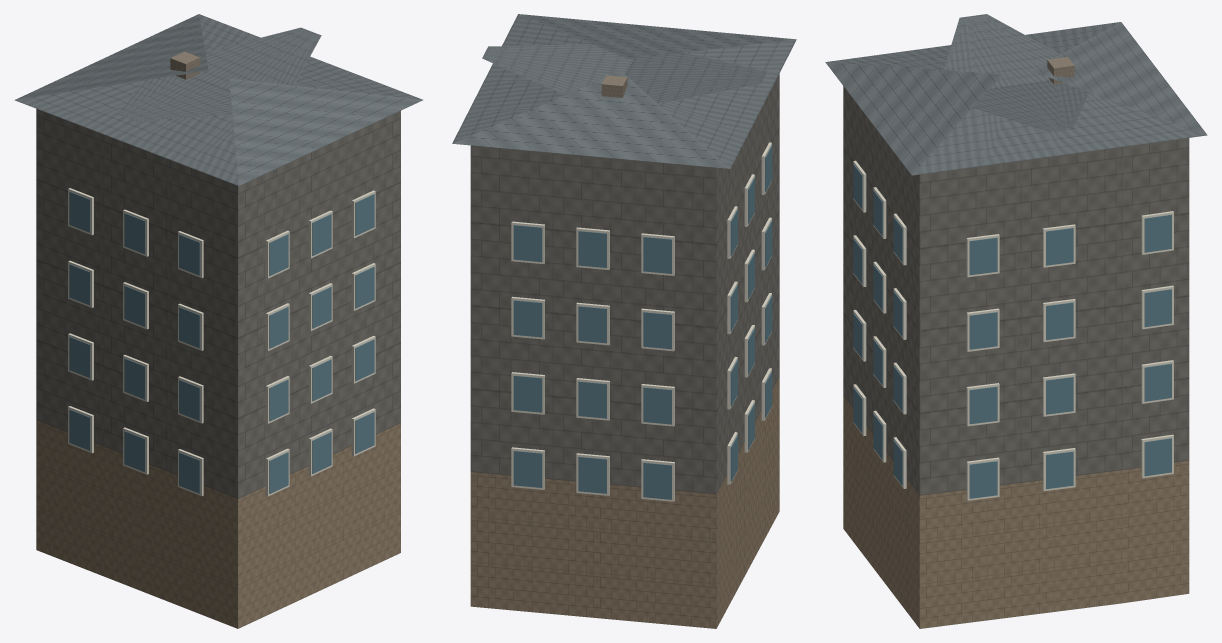
The model's file is core_0120.gltf.
3 renders of one model, left to right at view 1: azimuth 30°, elevation 25°; view 2: azimuth 150°, elevation 25°; view 3: azimuth 270°, elevation 25°, orthographic. The views are drawn at different scales.
Visible parts, largest first — view 1: core_0120; view 2: core_0120; view 3: core_0120.
Part boxes in pixels (box(x1,y1,x2,y2)): core_0120: box(14, 14, 422, 628); core_0120: box(452, 14, 796, 628); core_0120: box(825, 14, 1207, 628).
Bounding box in the file's own units: 12.62 × 18.85 × 13.26.
6 materials, 6 textured.
